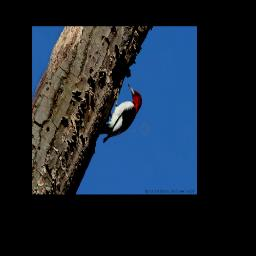Woodpecker: (93, 80, 147, 147)
